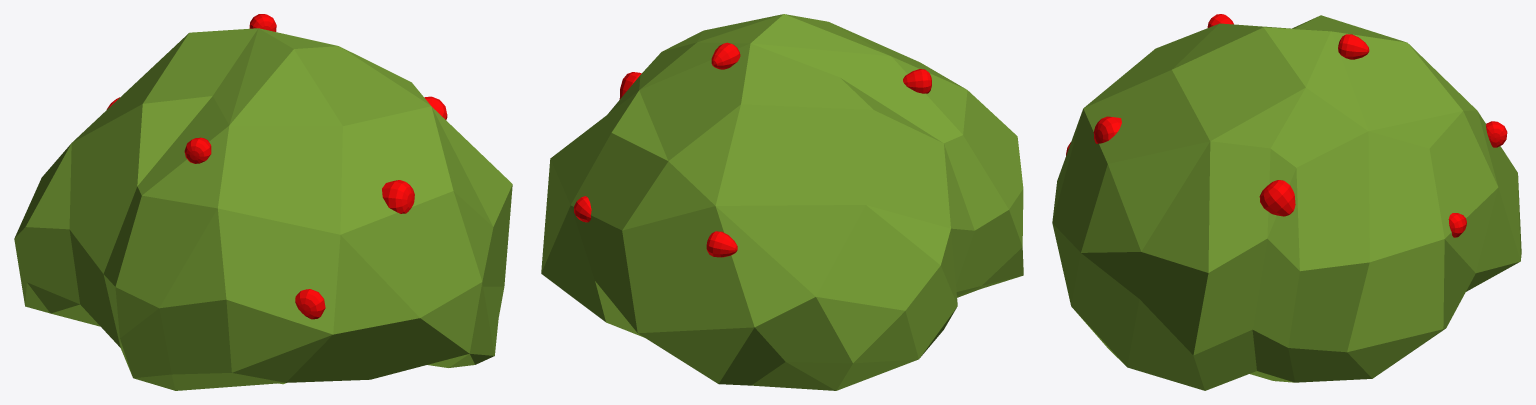
Rendered from strawberry_bush.fbx.
3 renders of one model, left to right at view 1: azimuth 30°, elevation 25°; view 2: azimuth 150°, elevation 25°; view 3: azimuth 270°, elevation 25°, orthographic. The views are drawn at different scales.
Visible parts, largest first — view 1: strawberry_bush; view 2: strawberry_bush; view 3: strawberry_bush.
Part boxes in pixels (<box>): strawberry_bush: <box>14,14,512,390</box>; strawberry_bush: <box>541,14,1023,390</box>; strawberry_bush: <box>1052,14,1521,390</box>.
Size of the model in its own units: 620 by 440 by 629.
